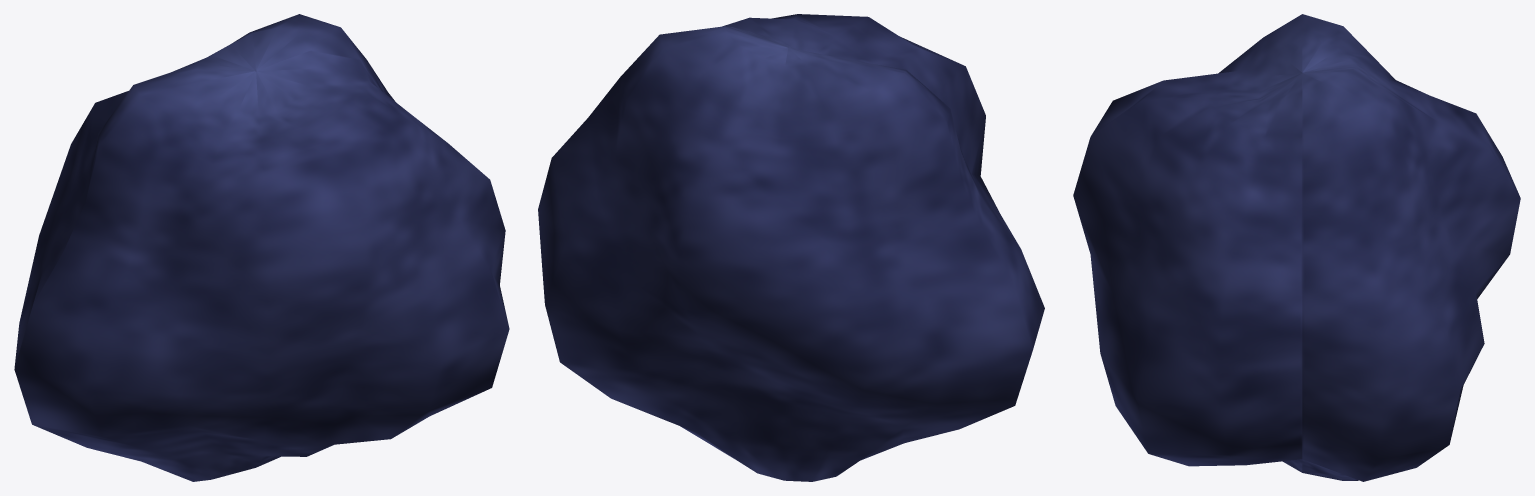
File: home_rock_silhouette.obj
The picture shows the model from 3 angles, left to right: view 1: azimuth 30°, elevation 25°; view 2: azimuth 150°, elevation 25°; view 3: azimuth 270°, elevation 25°; orthographic projection.
Parts seen in each view (by area): view 1: dark_crag_rock; view 2: dark_crag_rock; view 3: dark_crag_rock.
Part boxes in pixels (x1,y1,x2,y2): dark_crag_rock: [14, 14, 509, 481]; dark_crag_rock: [538, 14, 1044, 481]; dark_crag_rock: [1073, 14, 1520, 481].
Bounding box in the file's own units: 1.75 × 1.56 × 1.49.
1 material, 1 textured.
